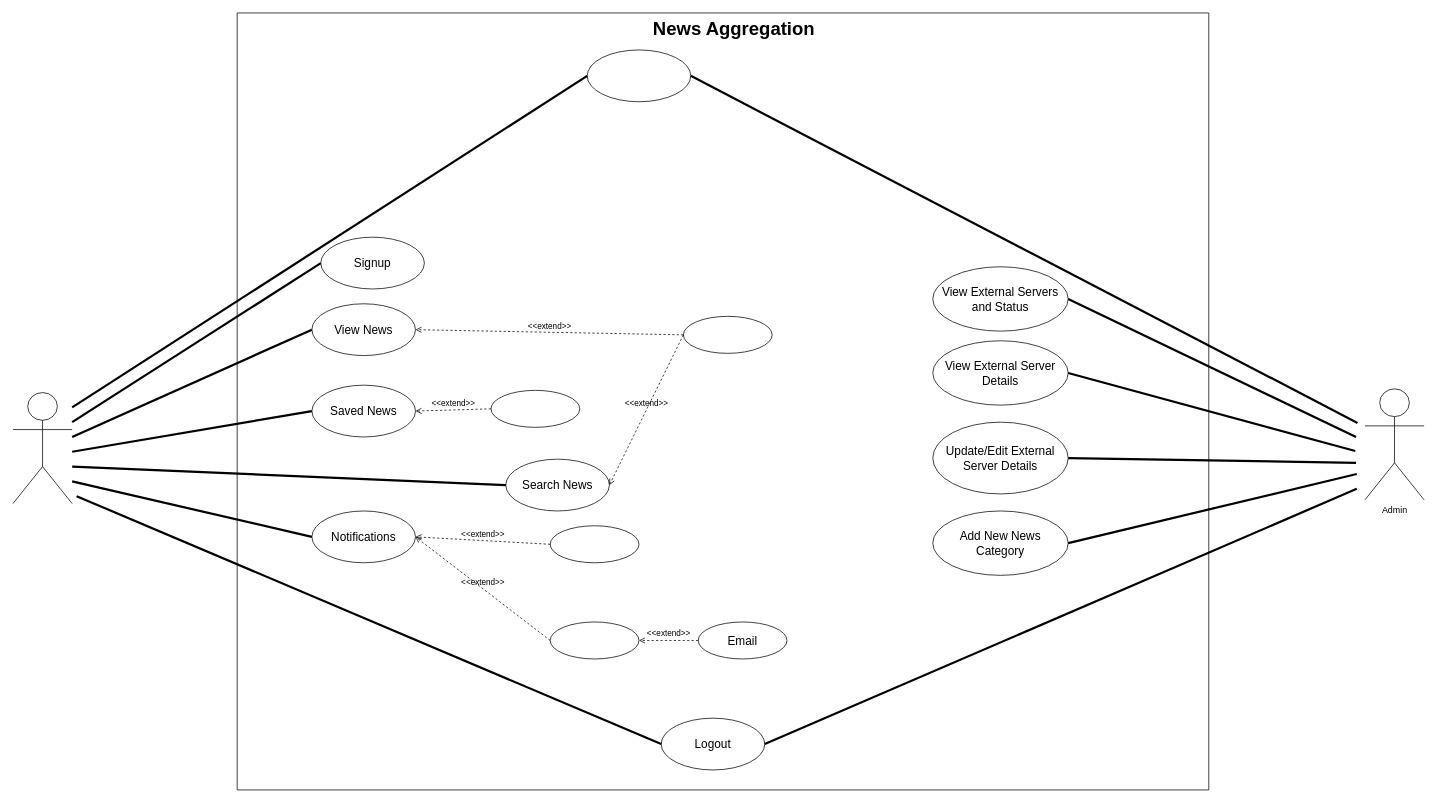
The diagram is 1437 pixels wide and 803 high, and some of its shapes have lost their labels. The shapes that lost their labels are listed below. From the top down, each one's centre as x and y in pixels, then its label:
At [638,75]: "Login".
At [727,334]: "Save".
At [535,408]: "Unsave".
At [42,448]: "User".
At [594,544]: "View".
At [594,640]: "Configure".
